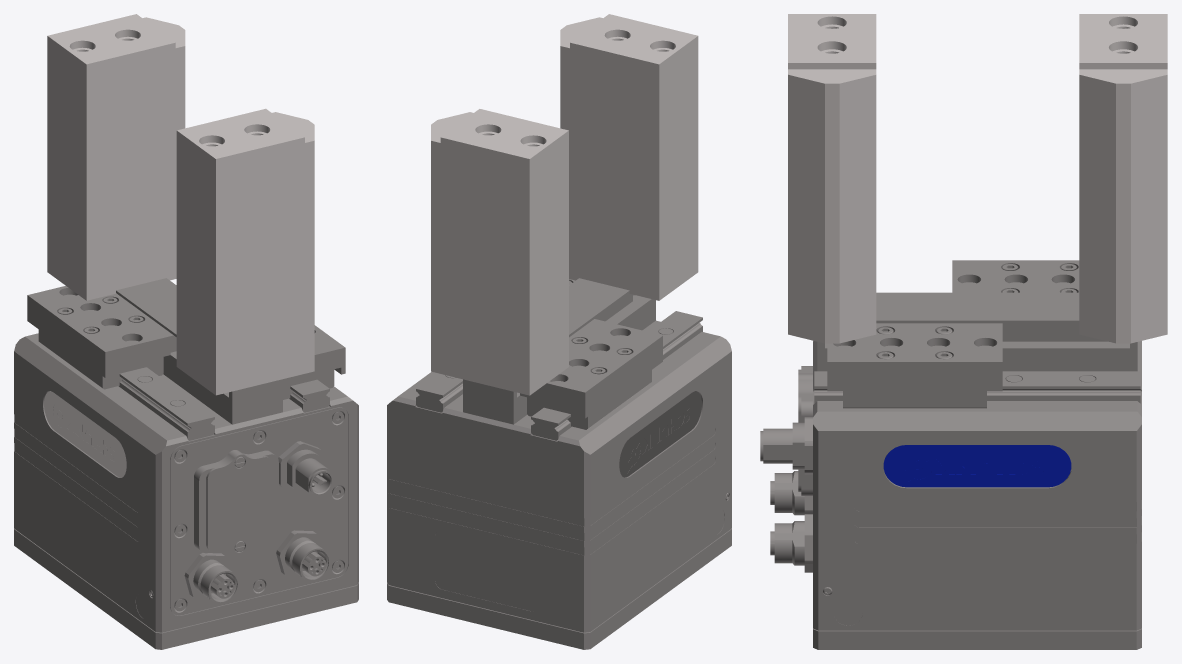
Rendered from pinza2.fbx.
The picture shows the model from 3 angles, left to right: view 1: azimuth 30°, elevation 25°; view 2: azimuth 150°, elevation 25°; view 3: azimuth 270°, elevation 25°; orthographic projection. The views are drawn at different scales.
Visible parts, largest first — view 1: Combined Geometry, SCHUNK-0300022 SBR-PGZN-plus 100.unnamed_solid (×2), _SCHUNK-EGL 90 Grundbacke mit Wagen.prt (×2), _SCHUNK-9957615 Typenschild 16x64x0.3.prt; view 2: Combined Geometry, SCHUNK-0300022 SBR-PGZN-plus 100.unnamed_solid (×2), _SCHUNK-EGL 90 Grundbacke mit Wagen.prt, _SCHUNK-9957615 Typenschild 16x64x0.3.prt; view 3: Combined Geometry, SCHUNK-0300022 SBR-PGZN-plus 100.unnamed_solid (×2), _SCHUNK-EGL 90 Grundbacke mit Wagen.prt (×2), _SCHUNK-9957615 Typenschild 16x64x0.3.prt.
Part boxes in pixels (x1,y1,x2,y2): Combined Geometry: (14,278,358,649); SCHUNK-0300022 SBR-PGZN-plus 100.unnamed_solid (×2): (47,14,314,395); _SCHUNK-EGL 90 Grundbacke mit Wagen.prt (×2): (27,286,345,399); _SCHUNK-9957615 Typenschild 16x64x0.3.prt: (44,391,126,477); Combined Geometry: (387,278,731,649); SCHUNK-0300022 SBR-PGZN-plus 100.unnamed_solid (×2): (431,14,698,395); _SCHUNK-EGL 90 Grundbacke mit Wagen.prt: (520,319,662,429); _SCHUNK-9957615 Typenschild 16x64x0.3.prt: (619,391,701,477); Combined Geometry: (760,292,1141,649); SCHUNK-0300022 SBR-PGZN-plus 100.unnamed_solid (×2): (788,14,1167,343); _SCHUNK-EGL 90 Grundbacke mit Wagen.prt (×2): (827,260,1079,408); _SCHUNK-9957615 Typenschild 16x64x0.3.prt: (883,445,1071,487).
Bounding box in the file's own units: 0.09 × 0.2066 × 0.1386.
